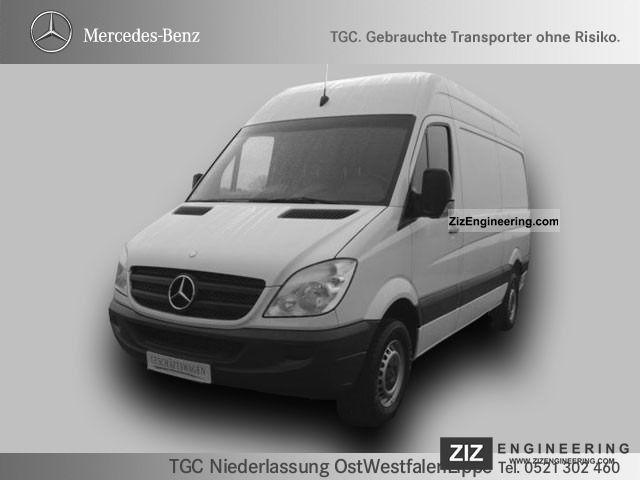car: (103, 69, 535, 441)
